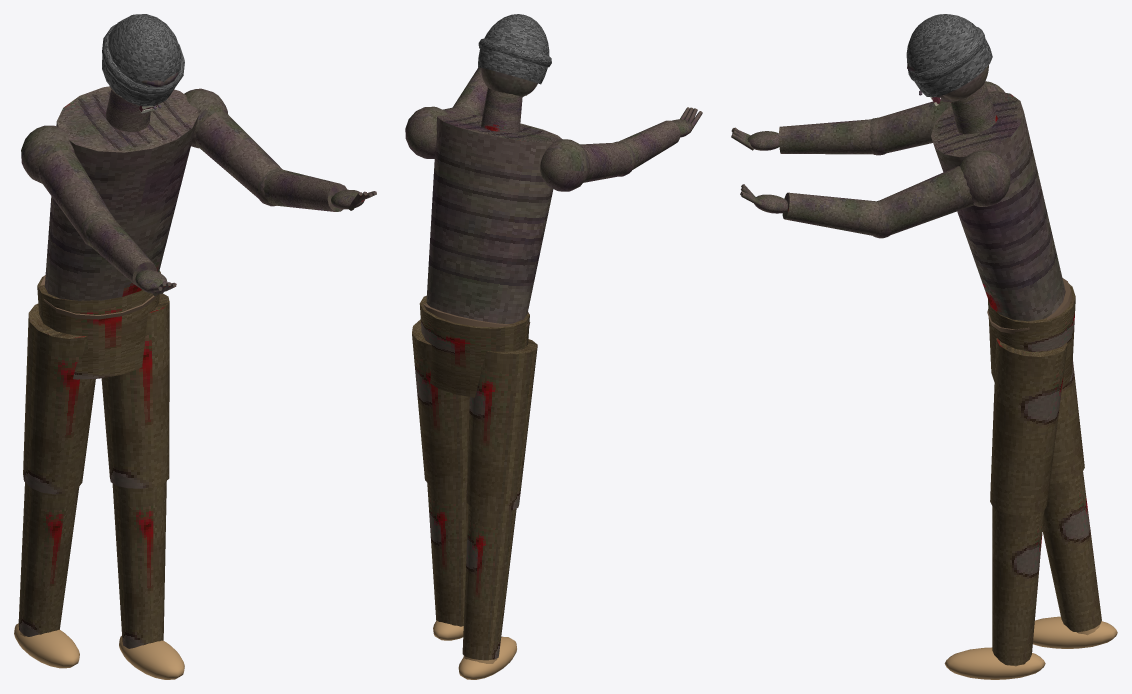
Rendered from Zombie_119.glb.
3 renders of one model, left to right at view 1: azimuth 30°, elevation 25°; view 2: azimuth 150°, elevation 25°; view 3: azimuth 270°, elevation 25°, orthographic. The views are drawn at different scales.
Visible parts, largest first — view 1: Zombie_119, object 42, object 10, object 3, object 43; view 2: Zombie_119, object 42, object 3, object 16, object 10, object 43; view 3: Zombie_119, object 42, object 10, object 3, object 43, object 16.
Boxes of the visible parts, bbox=[...] form: Zombie_119: bbox=[14, 86, 281, 679]; object 42: bbox=[102, 14, 181, 106]; object 10: bbox=[263, 169, 347, 211]; object 3: bbox=[85, 215, 156, 286]; object 43: bbox=[102, 24, 184, 95]; Zombie_119: bbox=[405, 88, 631, 679]; object 42: bbox=[478, 14, 549, 84]; object 3: bbox=[619, 120, 680, 169]; object 16: bbox=[481, 68, 537, 96]; object 10: bbox=[452, 67, 487, 116]; object 43: bbox=[478, 38, 551, 67]; Zombie_119: bbox=[877, 81, 1117, 679]; object 42: bbox=[906, 14, 992, 97]; object 10: bbox=[782, 192, 879, 235]; object 3: bbox=[779, 119, 872, 154]; object 43: bbox=[908, 27, 985, 83]; object 16: bbox=[907, 63, 988, 102].
Size of the model in its own units: 0.6397 by 1.84 by 0.9977.
Materials: 16 (6 with a texture image).
